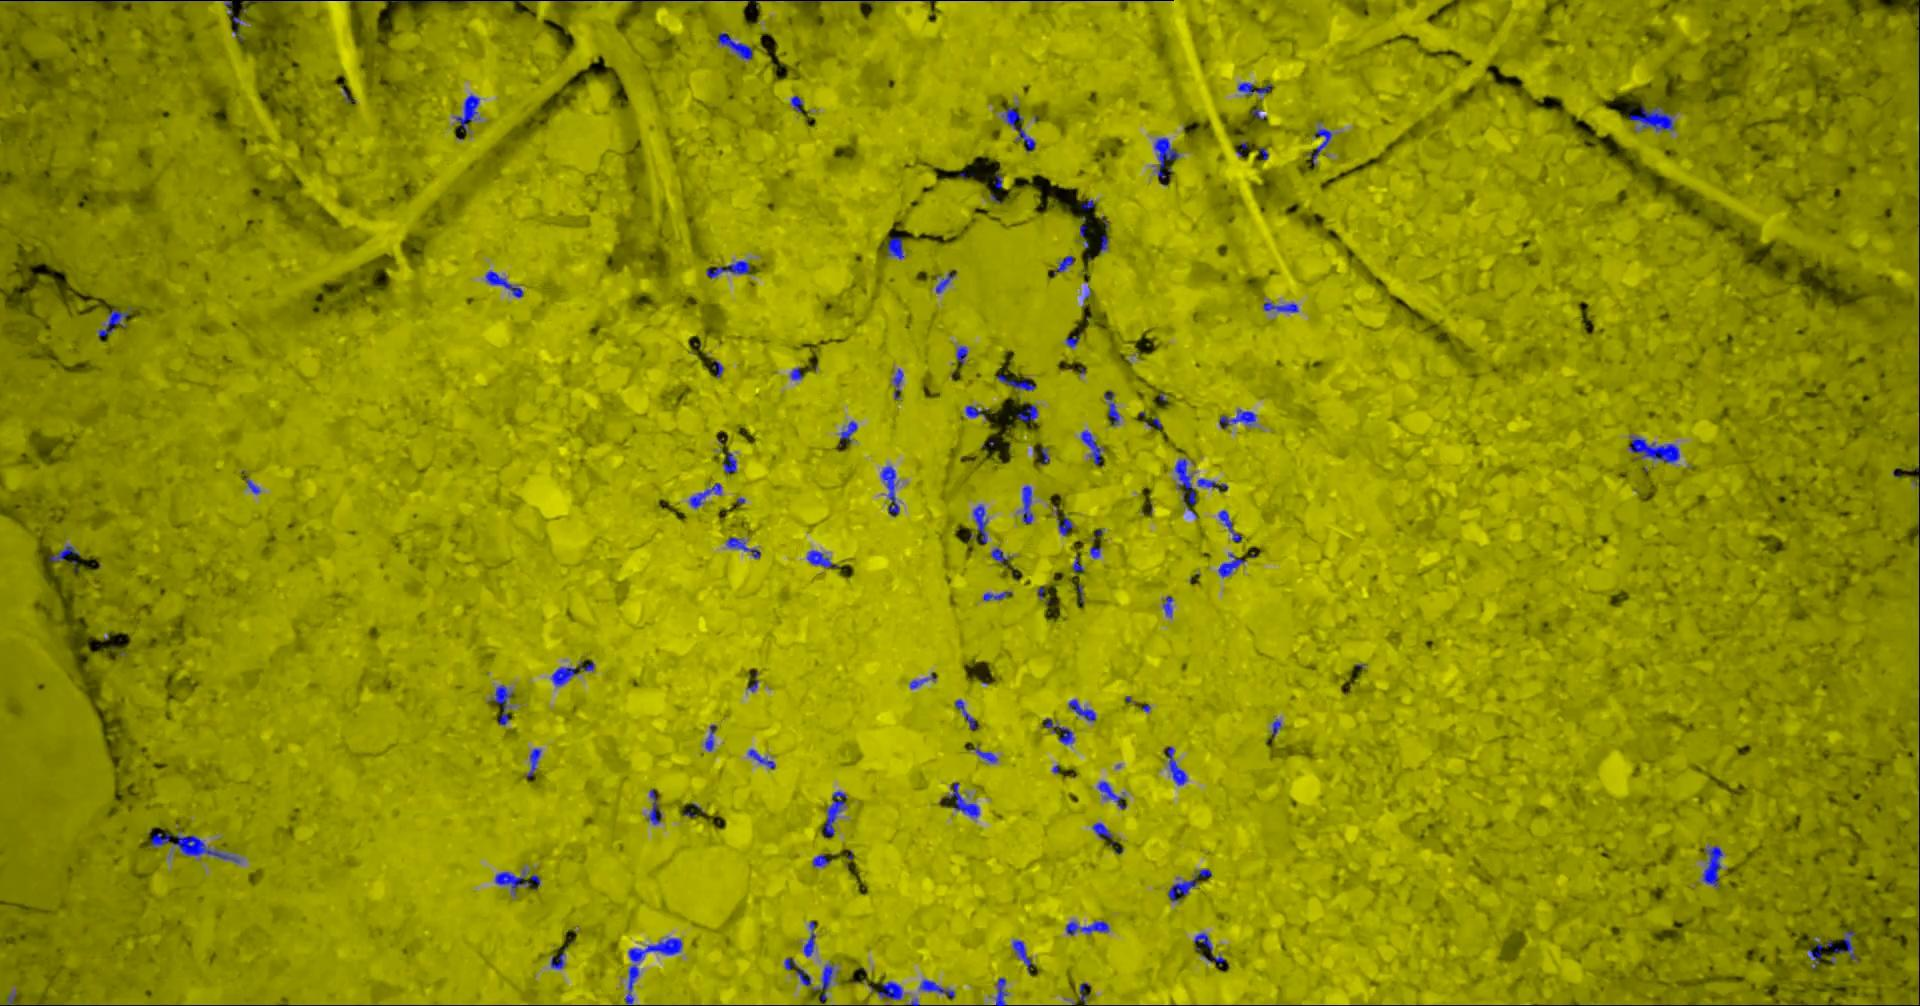ant: (623, 937, 681, 1005), (171, 829, 239, 862), (1001, 105, 1035, 151), (1167, 868, 1211, 901), (1628, 436, 1679, 464), (1175, 459, 1196, 516), (494, 869, 538, 895), (1628, 105, 1672, 131), (98, 306, 130, 340), (947, 782, 979, 817), (551, 662, 594, 686), (1154, 137, 1178, 179), (485, 271, 522, 297), (880, 465, 899, 516), (824, 791, 846, 835), (717, 32, 752, 58), (455, 94, 479, 131), (491, 683, 512, 725), (1044, 716, 1074, 744), (1702, 845, 1722, 887), (1164, 746, 1186, 785), (690, 481, 721, 508), (1832, 930, 1858, 962), (1309, 128, 1331, 165), (811, 964, 833, 1001), (1097, 781, 1126, 808), (1217, 509, 1241, 541), (706, 260, 749, 277), (1079, 431, 1101, 464), (726, 536, 759, 558), (954, 699, 978, 728), (1218, 409, 1255, 428), (1012, 939, 1032, 973), (1217, 553, 1244, 577), (1065, 920, 1109, 935), (919, 979, 954, 998), (996, 373, 1035, 390), (1068, 699, 1095, 721), (971, 504, 987, 542), (1103, 390, 1119, 426), (747, 749, 775, 768), (47, 545, 79, 561), (806, 550, 838, 567), (990, 547, 1015, 569), (648, 789, 662, 824), (881, 235, 903, 258), (524, 748, 541, 777), (970, 744, 997, 762), (803, 920, 815, 956), (837, 420, 856, 445), (876, 981, 902, 998), (1021, 485, 1032, 525), (935, 272, 955, 293), (1237, 83, 1271, 95), (1197, 478, 1227, 492), (1263, 301, 1298, 312), (1808, 940, 1822, 968), (909, 673, 935, 688), (1016, 404, 1037, 422), (1091, 822, 1112, 840), (1192, 932, 1211, 951), (703, 724, 716, 751), (1098, 220, 1109, 251), (996, 977, 1007, 1005), (1057, 514, 1072, 535), (150, 832, 170, 847), (1201, 954, 1225, 967), (893, 368, 903, 398), (795, 967, 810, 986), (983, 591, 1012, 600), (723, 452, 735, 473), (1057, 255, 1073, 271), (811, 854, 830, 866), (965, 405, 985, 417), (1079, 982, 1090, 1005), (550, 951, 564, 968), (1162, 594, 1172, 616), (956, 345, 968, 365), (1070, 555, 1083, 572), (1065, 333, 1079, 347), (791, 95, 803, 112), (790, 367, 803, 379)
